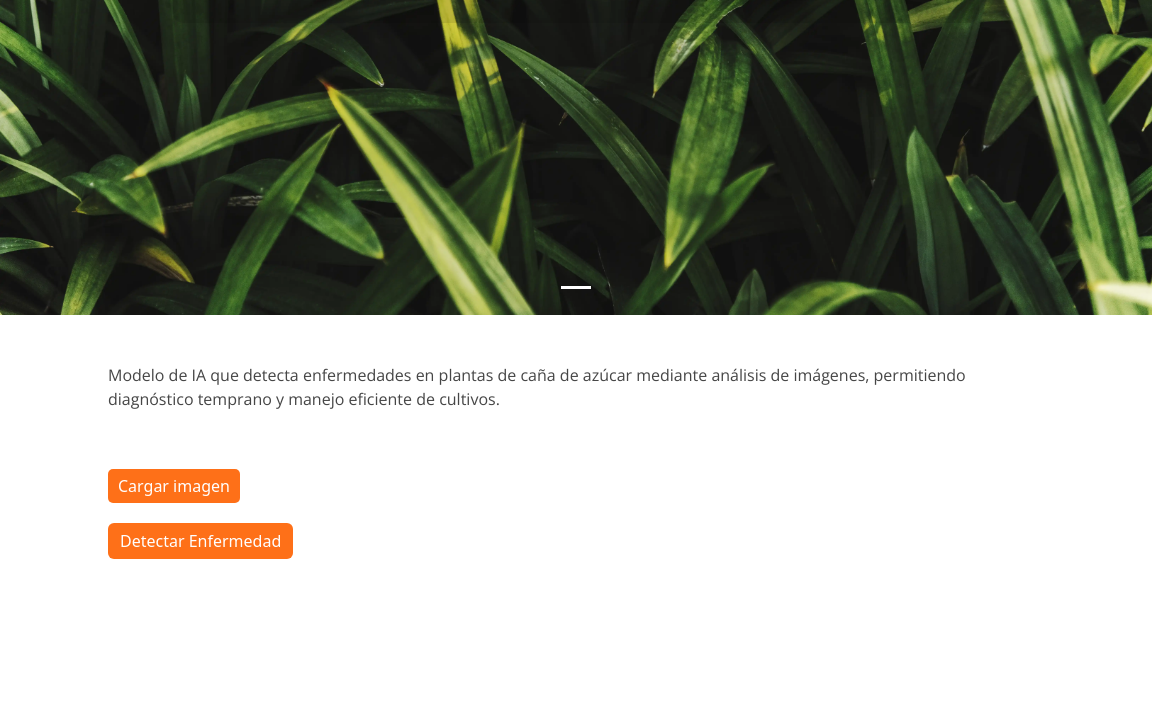
Scenario: DeteccionEnfermedadesPage › muestra error cuando no se ha subido imagen y se hace clic en "Detectar Enfermedad"
(page scrolled)
Click the button "Detectar Enfermedad" at point(201, 541), box [108,523,293,559]
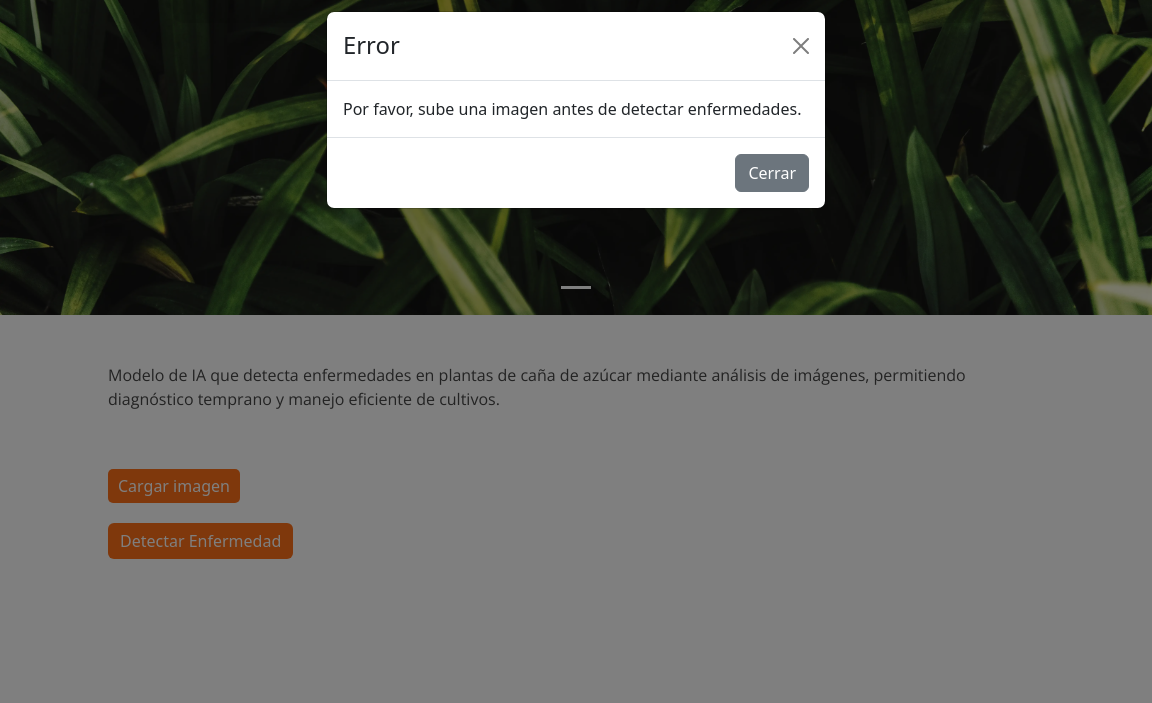
Expected: the text "Por favor, sube una imagen antes de detectar enfermedades." is shown, [343,98,801,120]
